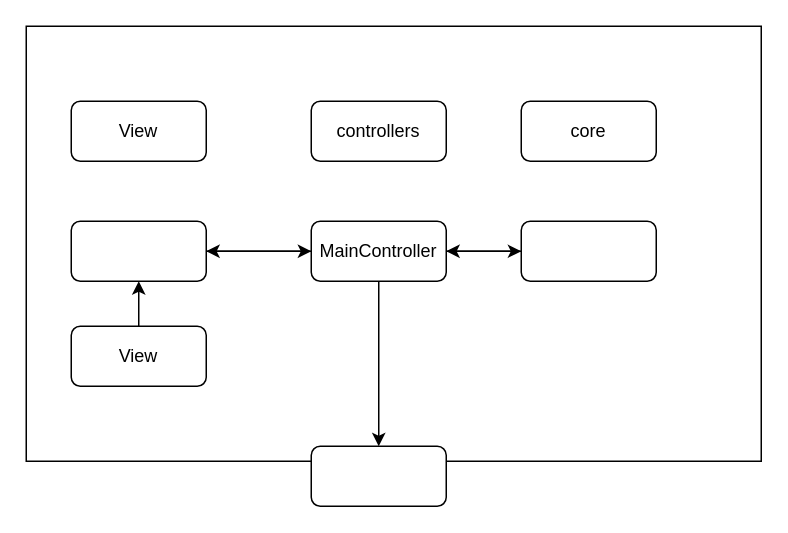
This 788x533 diagram has some shape labels left out. Each missing label, with the box of its shape:
Actions: (70, 220, 206, 281)
App: (310, 445, 446, 506)
DataHandler: (520, 220, 656, 281)
